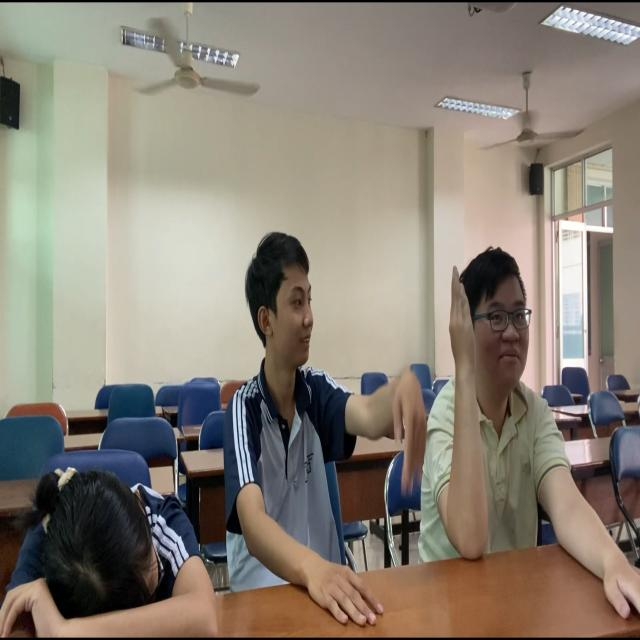raise_hand: (415, 246, 588, 576)
sleep: (3, 463, 221, 640)
